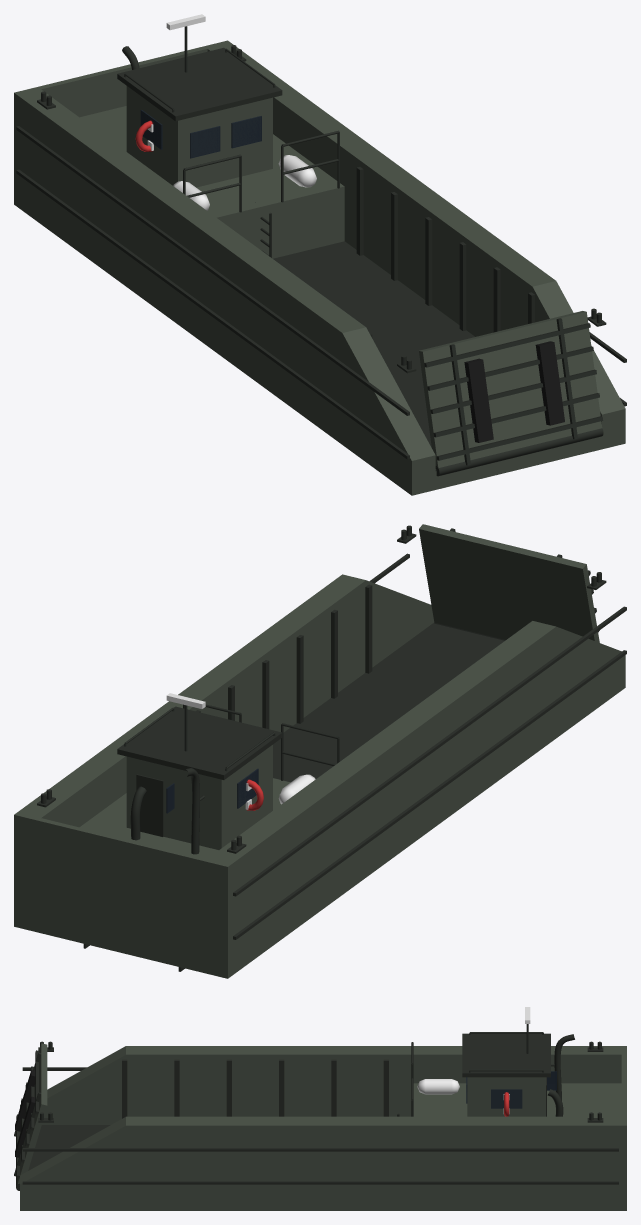
The model's file is lcm-8.glb.
3 views of the same model, one above another, from view 1: azimuth 30°, elevation 25°; view 2: azimuth 150°, elevation 25°; view 3: azimuth 270°, elevation 25° (orthographic). The views are drawn at different scales.
Parts seen in each view (by area): view 1: Mesh_RightWall, Mesh_LeftWall, Mesh_RampMesh, Mesh_WellDeck, Mesh_HullBottom, Mesh_SternDeckBlock, Mesh_PilothouseBody, Mesh_PilothouseRoof, Mesh_Transom, Mesh_StrakeR1, Mesh_StrakeR2, Mesh_RampPad1 (+15 smaller); view 2: Mesh_RightWall, Mesh_Transom, Mesh_LeftWall, Mesh_RampMesh, Mesh_WellDeck, Mesh_HullBottom, Mesh_PilothouseBody, Mesh_PilothouseRoof, Mesh_StrakeR1, Mesh_StrakeR2, Mesh_SternDeckBlock, Mesh_PilothouseDoor (+3 smaller); view 3: Mesh_LeftWall, Mesh_RightWall, Mesh_HullBottom, Mesh_PilothouseRoof, Mesh_SternDeckBlock, Mesh_PilothouseBody, Mesh_StrakeL1, Mesh_StrakeL2, Mesh_WellDeck, Mesh_RampMesh, Mesh_Transom, Mesh_CanisterR (+10 smaller).
Boxes of the visible parts, x1,y1,x2,y2 form: Mesh_RightWall: (17, 89, 435, 495); Mesh_LeftWall: (207, 43, 625, 449); Mesh_RampMesh: (419, 311, 602, 467); Mesh_WellDeck: (273, 241, 474, 470); Mesh_HullBottom: (17, 188, 625, 495); Mesh_SternDeckBlock: (80, 106, 344, 258); Mesh_PilothouseBody: (126, 86, 272, 187); Mesh_PilothouseRoof: (117, 47, 282, 121); Mesh_Transom: (14, 40, 230, 206); Mesh_StrakeR1: (16, 169, 409, 459); Mesh_StrakeR2: (16, 126, 409, 415); Mesh_RampPad1: (535, 341, 564, 425); Mesh_RightWall: (208, 621, 625, 974); Mesh_Transom: (14, 812, 231, 978); Mesh_LeftWall: (18, 574, 434, 827); Mesh_RampMesh: (419, 524, 599, 642); Mesh_WellDeck: (273, 622, 504, 782); Mesh_HullBottom: (231, 669, 625, 975); Mesh_PilothouseBody: (126, 745, 272, 849); Mesh_PilothouseRoof: (117, 706, 282, 779); Mesh_StrakeR1: (233, 650, 626, 939); Mesh_StrakeR2: (233, 606, 626, 896); Mesh_SternDeckBlock: (79, 778, 290, 858); Mesh_PilothouseDoor: (136, 774, 163, 836); Mesh_LeftWall: (20, 1116, 621, 1210); Mesh_RightWall: (20, 1046, 621, 1124); Mesh_HullBottom: (20, 1196, 621, 1210); Mesh_PilothouseRoof: (462, 1033, 550, 1077); Mesh_SternDeckBlock: (413, 1083, 621, 1116); Mesh_PilothouseBody: (467, 1077, 545, 1116); Mesh_StrakeL1: (22, 1181, 618, 1184); Mesh_StrakeL2: (22, 1148, 618, 1151); Mesh_WellDeck: (28, 1125, 110, 1170); Mesh_RampMesh: (17, 1043, 47, 1183); Mesh_Transom: (621, 1046, 626, 1210); Mesh_CanisterR: (417, 1079, 459, 1094).
Bounding box in the file's own units: 3.7 × 3.57 × 11.72.
